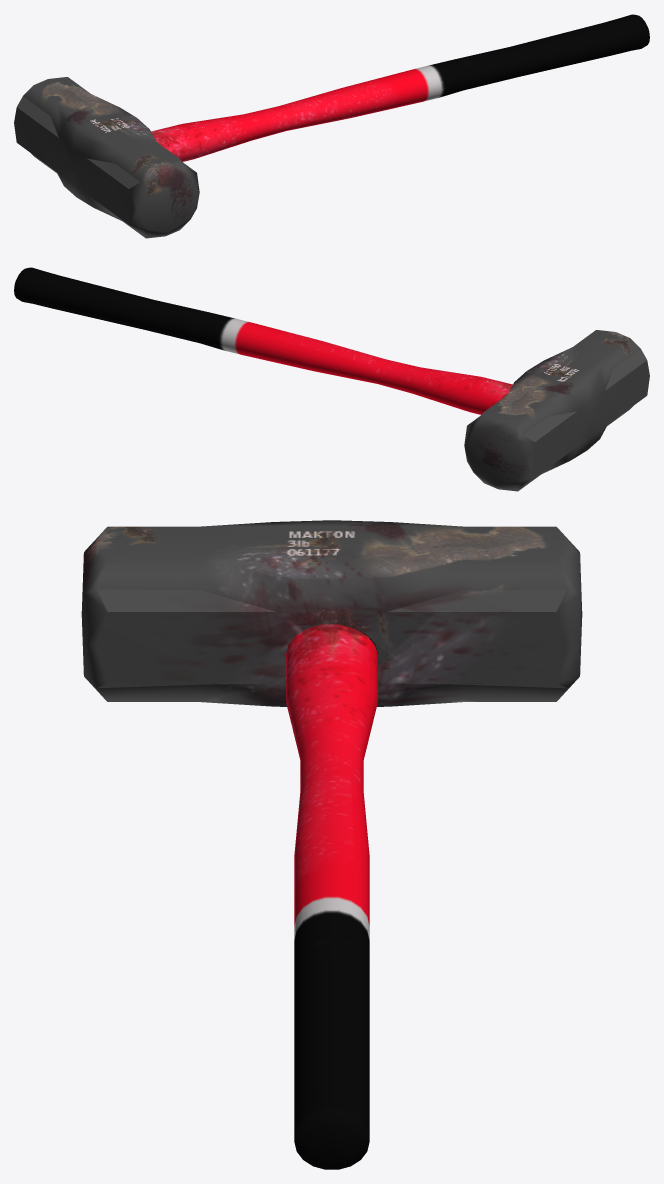
Rendered from sledgehammer 1111.gltf.
3 renders of one model, top to bottom at view 1: azimuth 30°, elevation 25°; view 2: azimuth 150°, elevation 25°; view 3: azimuth 270°, elevation 25°, orthographic. The views are drawn at different scales.
Visible parts, largest first — view 1: sledgeHammer; view 2: sledgeHammer; view 3: sledgeHammer.
Boxes of the visible parts, x1,y1,x2,y2 form: sledgeHammer: [14, 14, 649, 238]; sledgeHammer: [14, 267, 649, 491]; sledgeHammer: [81, 520, 582, 1169].
Bounding box in the file's own units: 1.04 × 0.1237 × 0.3939.
2 materials, 2 textured.
